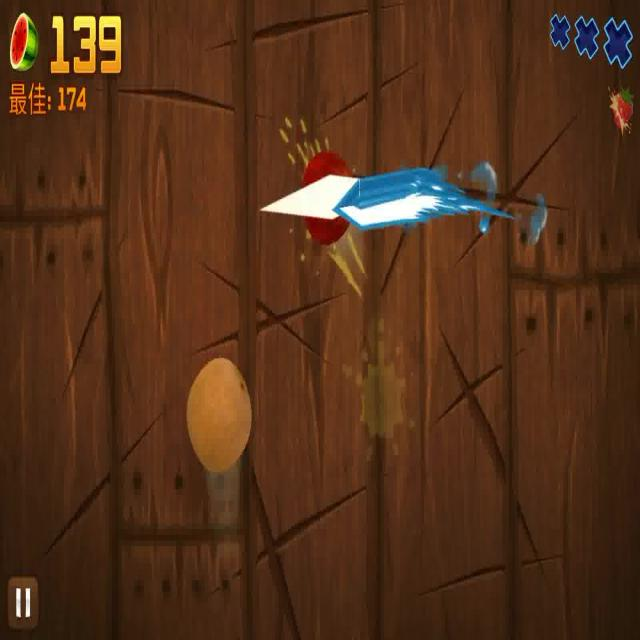fruit: (183, 355, 250, 470), (305, 152, 366, 241)
